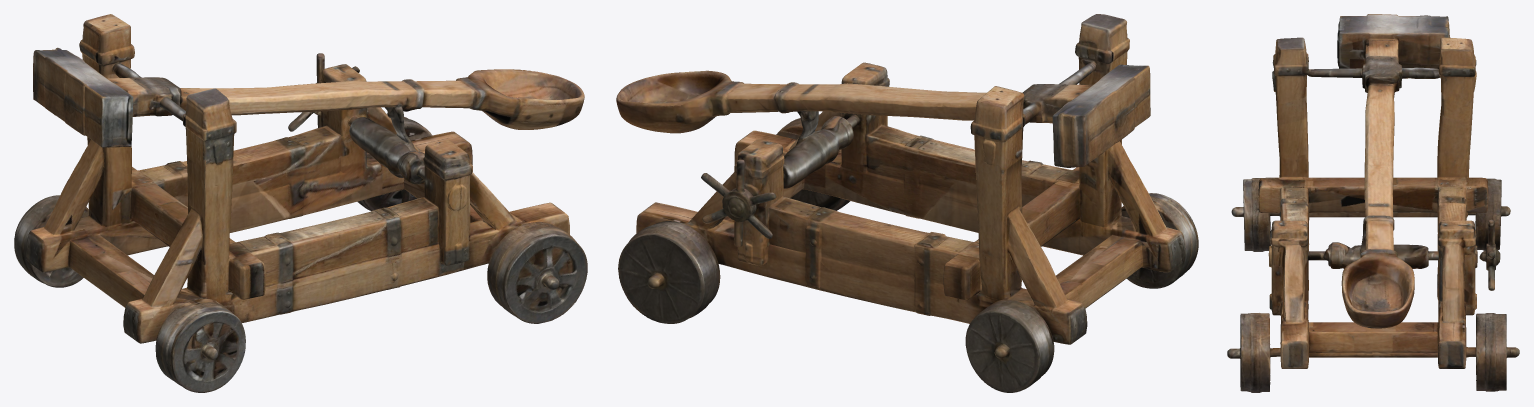
File: petrobolos__wheeled-catapult.glb
3 views of the same model, side by side, from view 1: azimuth 30°, elevation 25°; view 2: azimuth 150°, elevation 25°; view 3: azimuth 270°, elevation 25° (orthographic). The views are drawn at different scales.
Bounding box in the file's own units: 2 × 1.07 × 1.25.
Materials: 1 (1 with a texture image).
